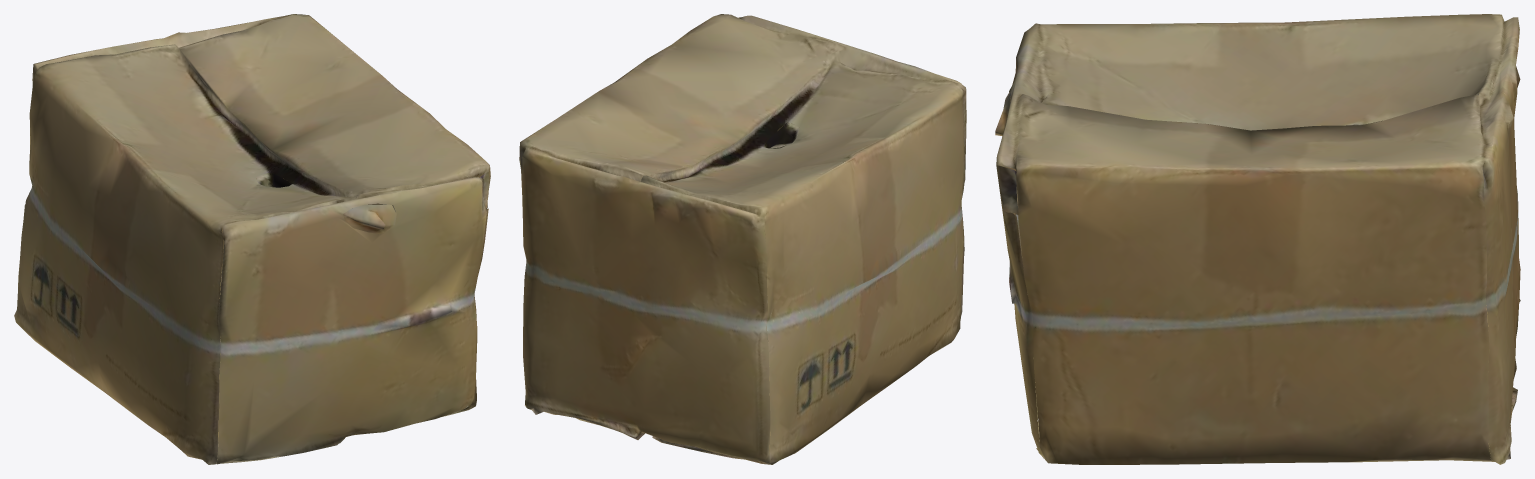
Rendered from cardboard_box_01.glb.
3 renders of one model, left to right at view 1: azimuth 30°, elevation 25°; view 2: azimuth 150°, elevation 25°; view 3: azimuth 270°, elevation 25°, orthographic. The views are drawn at different scales.
Visible parts, largest first — view 1: cardboard_box_01; view 2: cardboard_box_01; view 3: cardboard_box_01.
Boxes of the visible parts, x1,y1,x2,y2 form: cardboard_box_01: (14,14,490,464); cardboard_box_01: (519,14,966,464); cardboard_box_01: (995,14,1520,464).
Bounding box in the file's own units: 0.3872 × 0.3406 × 0.515.
Materials: 1 (1 with a texture image).
